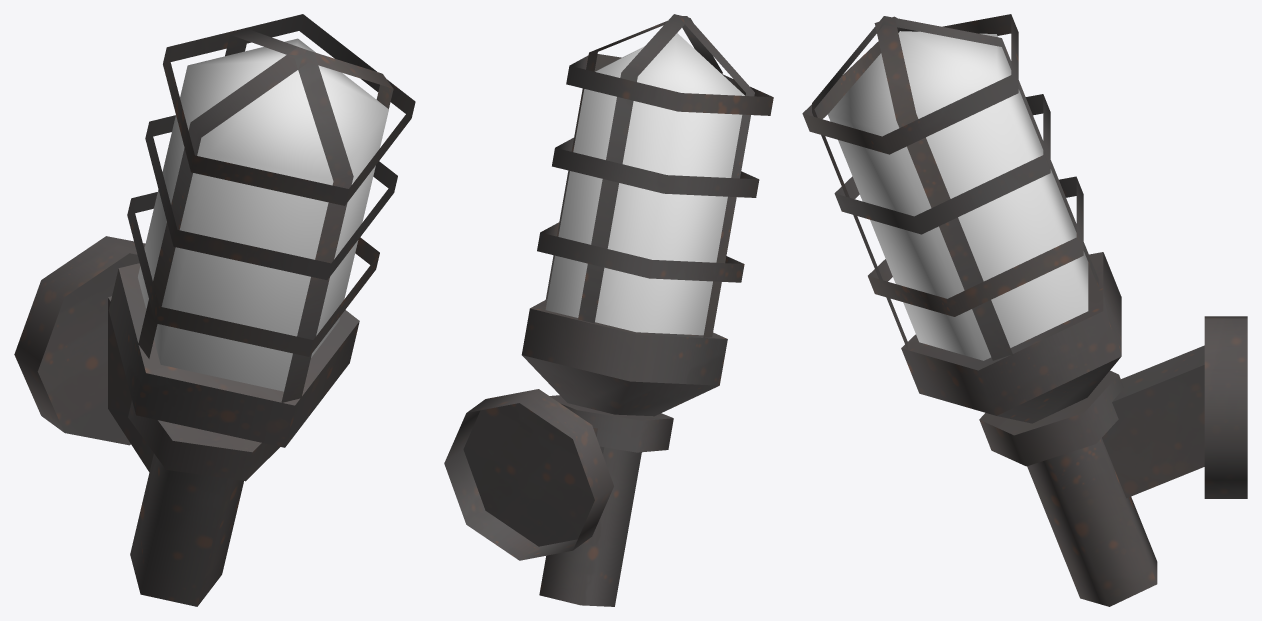
Rendered from prop-interior-light.glb.
3 renders of one model, left to right at view 1: azimuth 30°, elevation 25°; view 2: azimuth 150°, elevation 25°; view 3: azimuth 270°, elevation 25°, orthographic. The views are drawn at different scales.
Visible parts, largest first — view 1: prop-interior-light; view 2: prop-interior-light; view 3: prop-interior-light.
Part boxes in pixels (box(x1,y1,x2,y2)): prop-interior-light: box(14, 14, 415, 606); prop-interior-light: box(444, 14, 773, 606); prop-interior-light: box(802, 14, 1247, 606).
Bounding box in the file's own units: 0.1826 × 0.5013 × 0.3478.
Materials: 2 (1 with a texture image).
